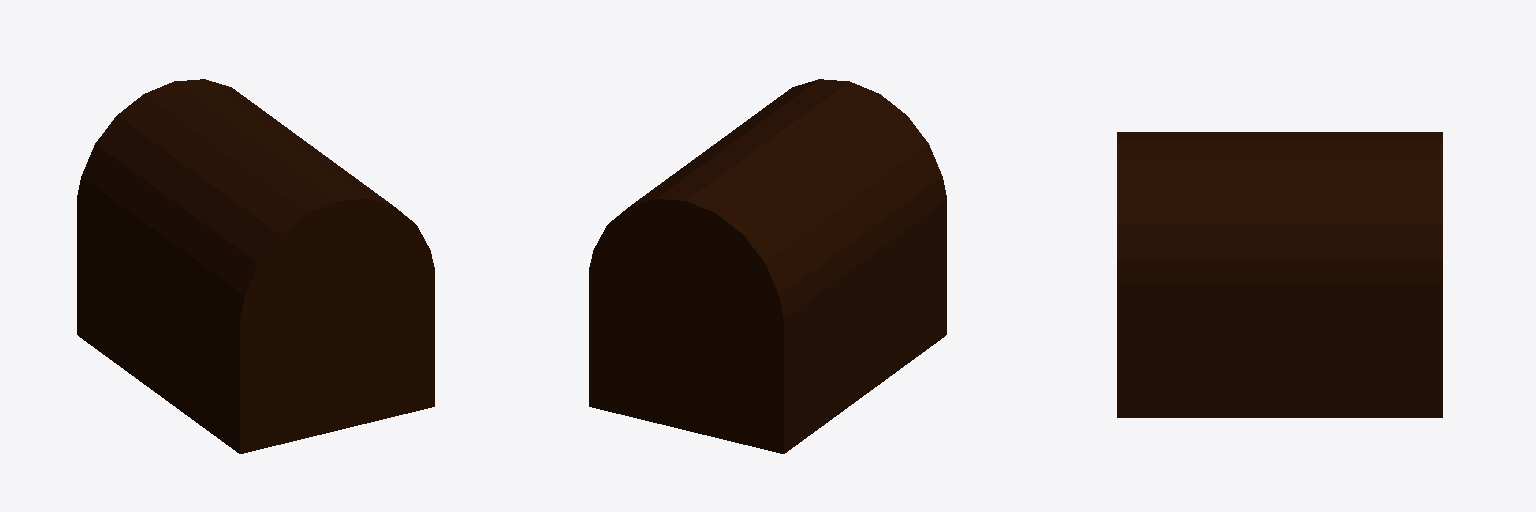
Rendered from KistePlatzhalter.obj.
The picture shows the model from 3 angles: view 1: azimuth 30°, elevation 25°; view 2: azimuth 150°, elevation 25°; view 3: azimuth 270°, elevation 25°; orthographic projection.
Parts seen in each view (by area): view 1: group2 group1 pCylinder1, pCube1 group2 group1; view 2: group2 group1 pCylinder1, pCube1 group2 group1; view 3: group2 group1 pCylinder1, pCube1 group2 group1.
Part boxes in pixels (left/top/right/bottom): group2 group1 pCylinder1: left=77, top=79, right=434, bottom=318; pCube1 group2 group1: left=77, top=200, right=434, bottom=453; group2 group1 pCylinder1: left=589, top=79, right=946, bottom=318; pCube1 group2 group1: left=589, top=200, right=946, bottom=453; group2 group1 pCylinder1: left=1117, top=132, right=1442, bottom=282; pCube1 group2 group1: left=1117, top=283, right=1442, bottom=417.
Bounding box in the file's own units: 1.38 × 1.55 × 2.